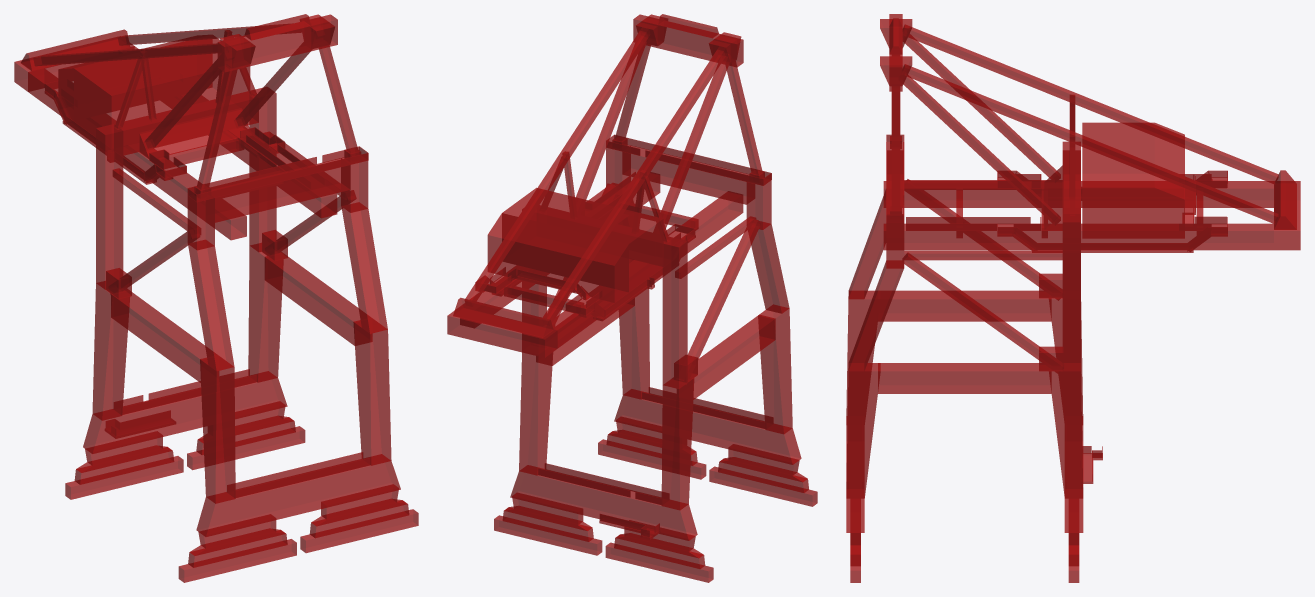
The model's file is SM_Bld_Crane_01_Collision.fbx.
The picture shows the model from 3 angles, left to right: view 1: azimuth 30°, elevation 25°; view 2: azimuth 150°, elevation 25°; view 3: azimuth 270°, elevation 25°; orthographic projection. The views are drawn at different scales.
Parts seen in each view (by area): view 1: SM_Bld_Crane_01_Collision; view 2: SM_Bld_Crane_01_Collision; view 3: SM_Bld_Crane_01_Collision.
Part boxes in pixels (x1=…): SM_Bld_Crane_01_Collision: x1=14, y1=14, x2=418, y2=582; SM_Bld_Crane_01_Collision: x1=447, y1=14, x2=817, y2=582; SM_Bld_Crane_01_Collision: x1=846, y1=14, x2=1300, y2=582.
Size of the model in its own units: 3579 by 7510 by 6240.
